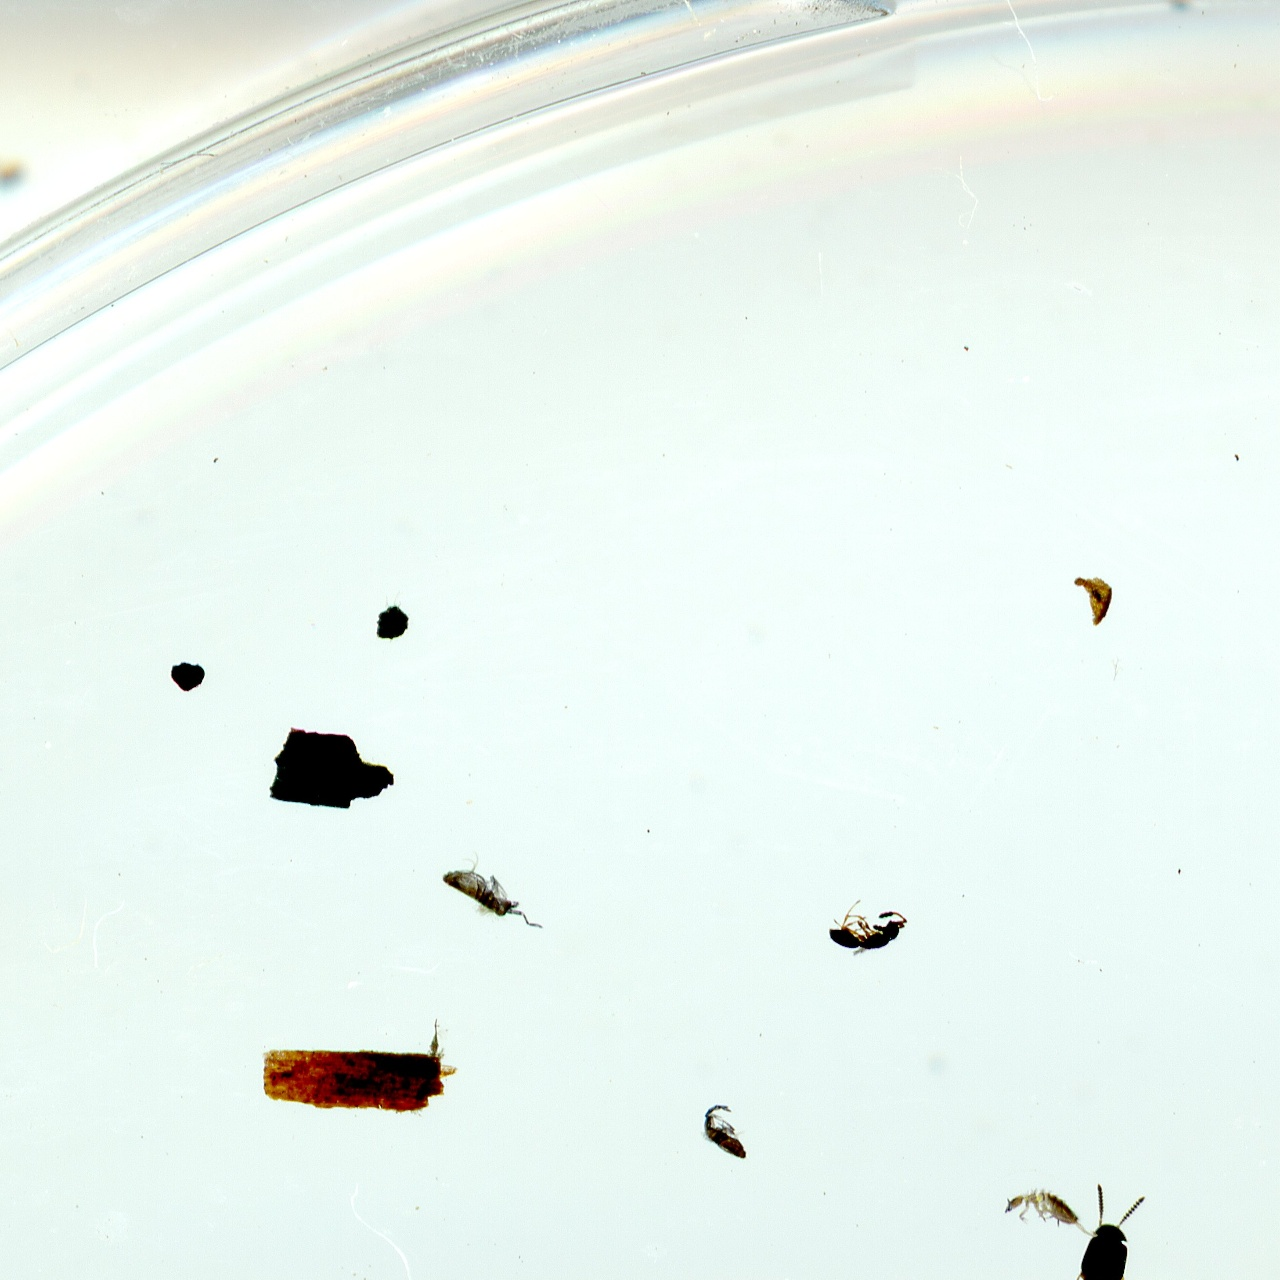arthropod: (438, 845, 554, 942), (1054, 1176, 1153, 1280), (821, 893, 911, 958), (996, 1186, 1101, 1241), (695, 1098, 753, 1163)
